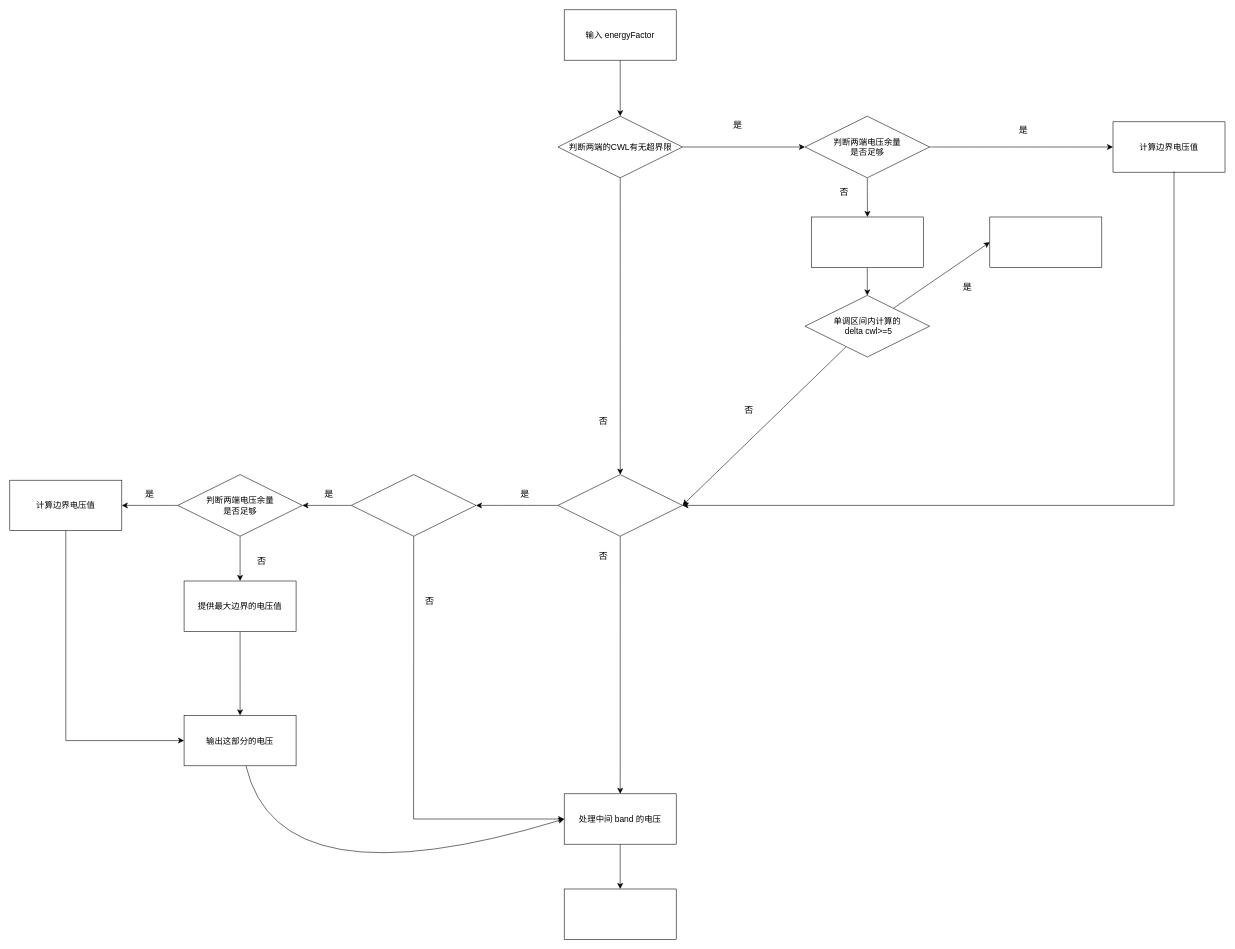
Image size: 1235x949. Some labels were removed from this diagram. The shapes that lost their labels are listed below. From the top down, each one's box as (x1, y1, x2, y2) in pixels, then its label:
(811, 216, 923, 267): 提供所处单调区间内的最大边界的电压值
(989, 216, 1102, 267): 检索全局最接近的波长索引
(351, 474, 476, 536): 判断 2nd order 附近的cwl是否需要处理
(557, 474, 683, 536): 判断是否为 2nd order
(564, 888, 676, 939): 输出 json 输出 拟合的电压
